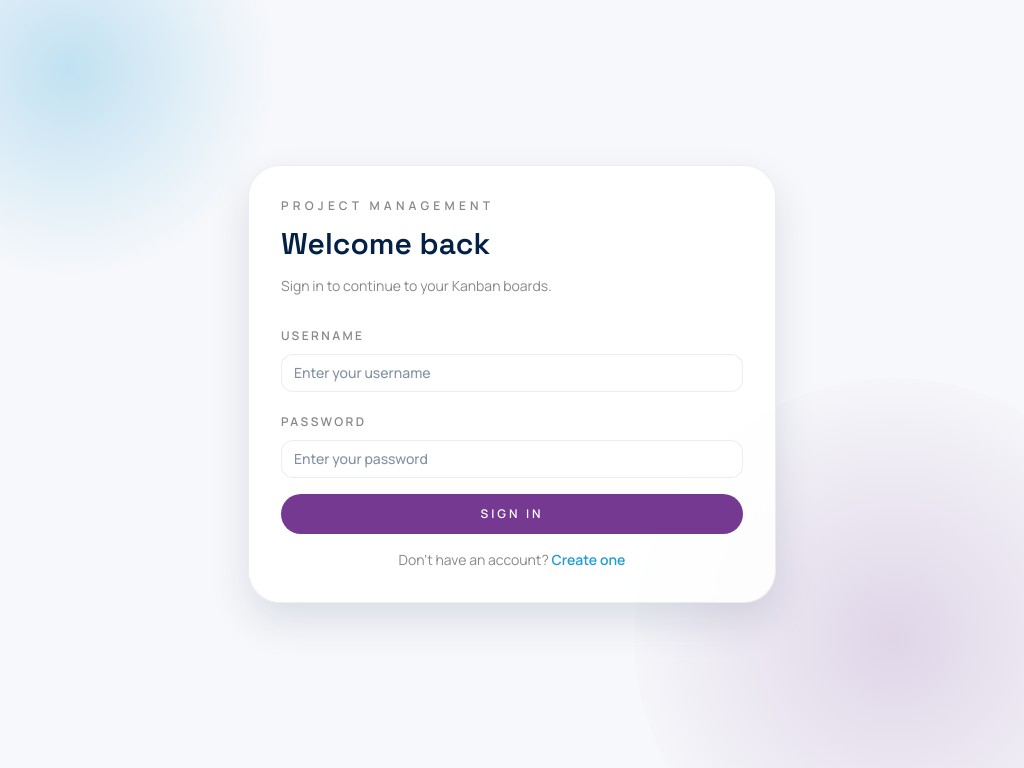
Test case: Home page › allows signing in with demo credentials
This screenshot has width=1024, height=768.
Type "user" into the field with placeholder "Enter your username".
click(512, 373); type("user")  # box [281,354,743,392]
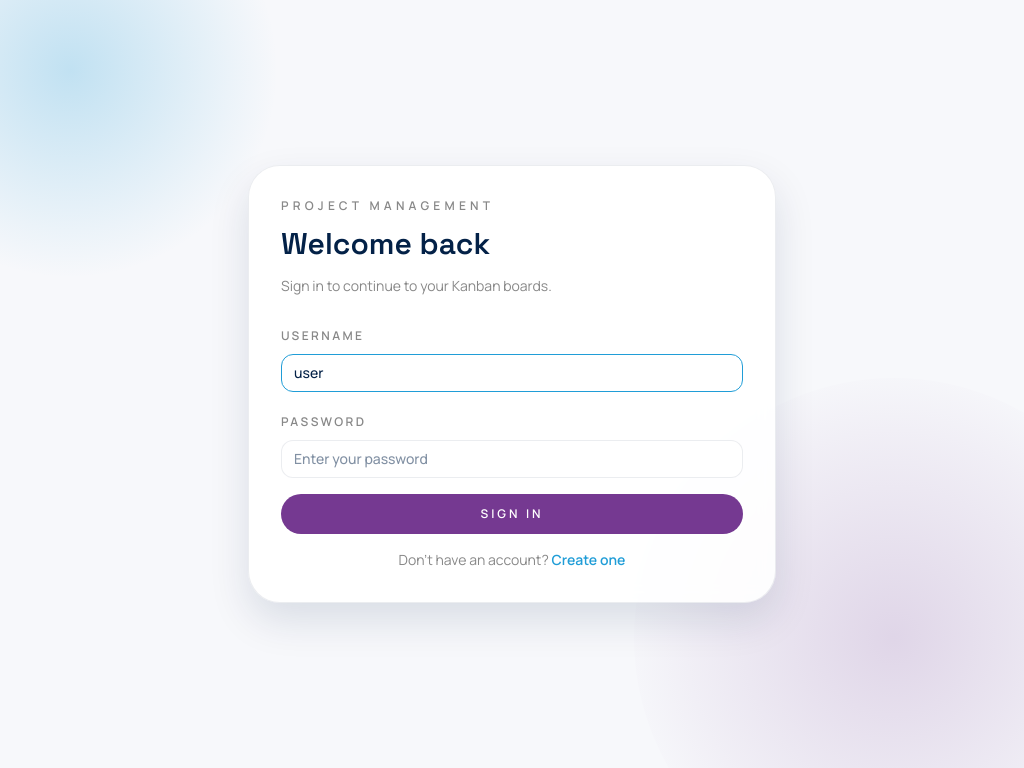
Type "password" into the password field with placeholder "Enter your password".
click(512, 459); type("password")  # box [281,440,743,478]
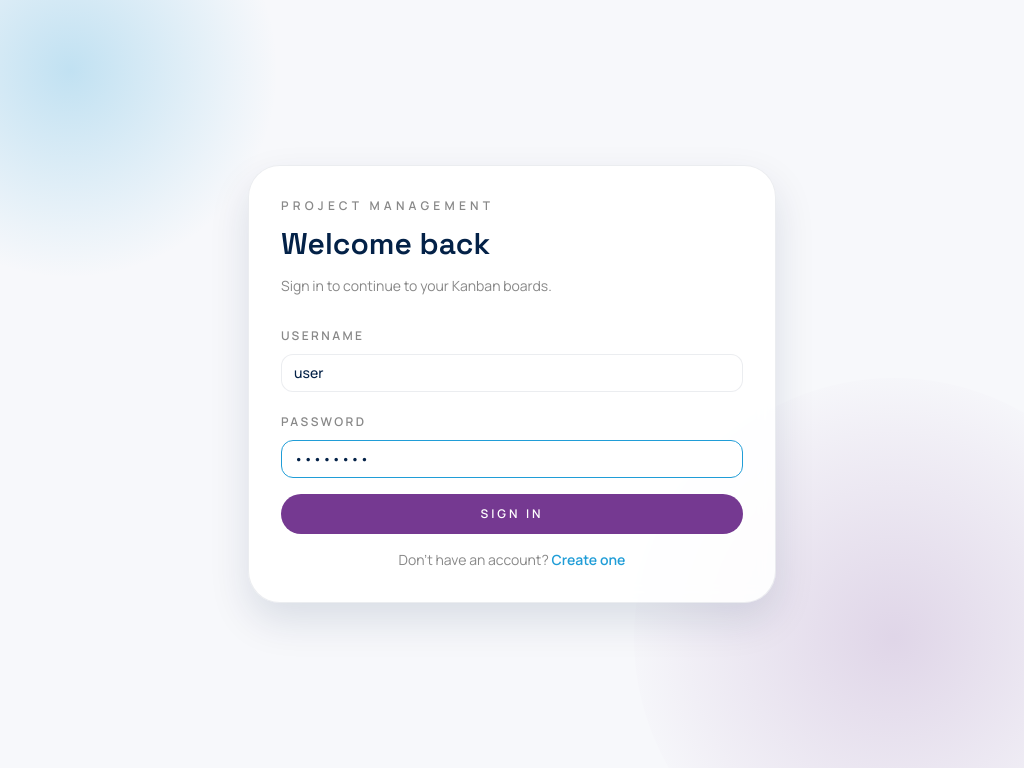
Click the button "Sign in".
click(512, 514)  # box [281,494,743,534]
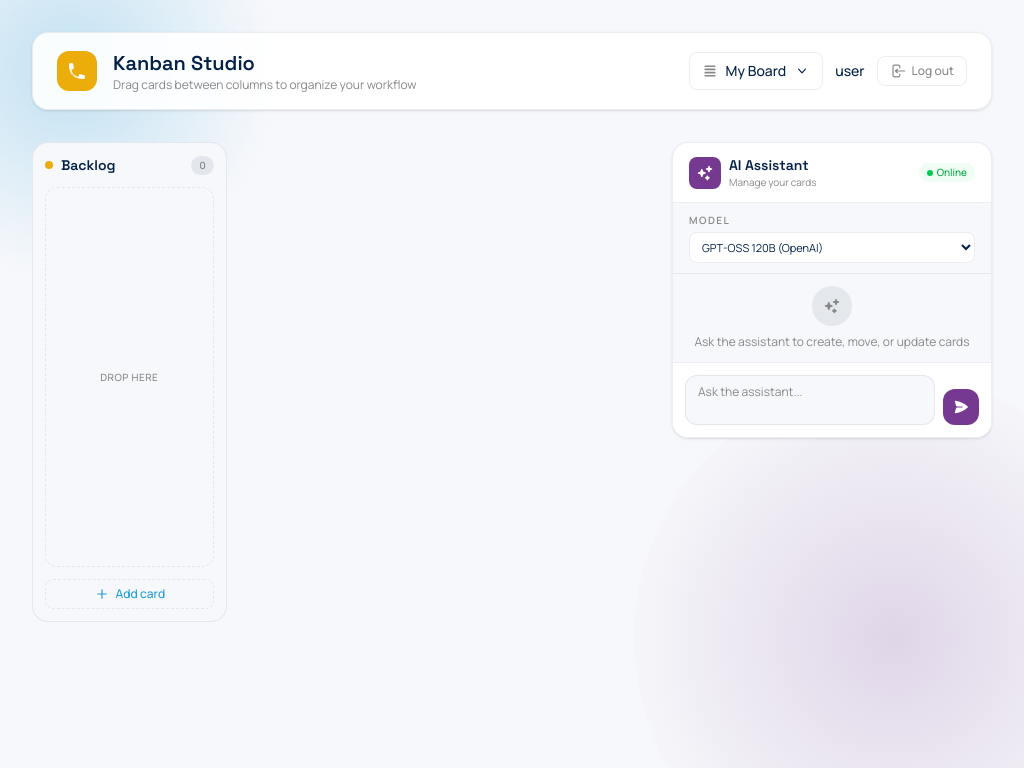
Expected: the heading "Kanban Studio" is shown, [113,50,255,76]
